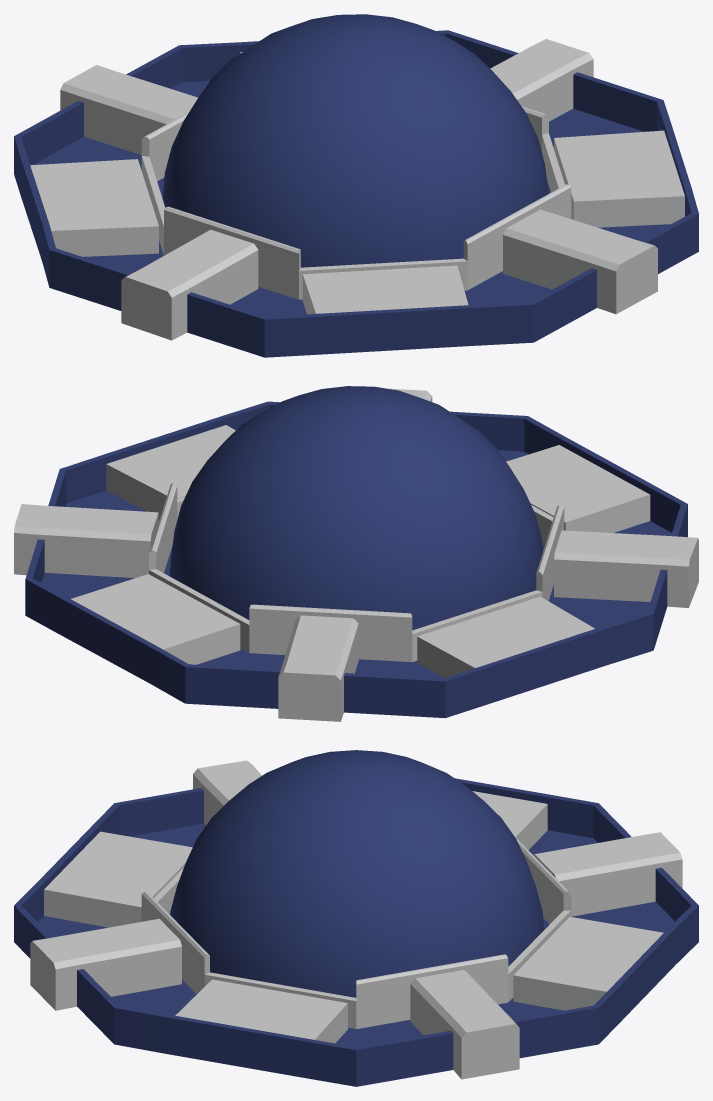
The model's file is Level 2 Large Shootable Bomb.fbx.
The picture shows the model from 3 angles, top to bottom: view 1: azimuth 30°, elevation 25°; view 2: azimuth 150°, elevation 25°; view 3: azimuth 270°, elevation 25°; orthographic projection. The views are drawn at different scales.
Visible parts, largest first — view 1: pCylinder3; view 2: pCylinder3; view 3: pCylinder3.
Boxes of the visible parts, left/top/right/bottom form: pCylinder3: left=14, top=14, right=698, bottom=357; pCylinder3: left=14, top=386, right=698, bottom=721; pCylinder3: left=14, top=750, right=698, bottom=1086.
Size of the model in its own units: 431 by 121 by 431.
